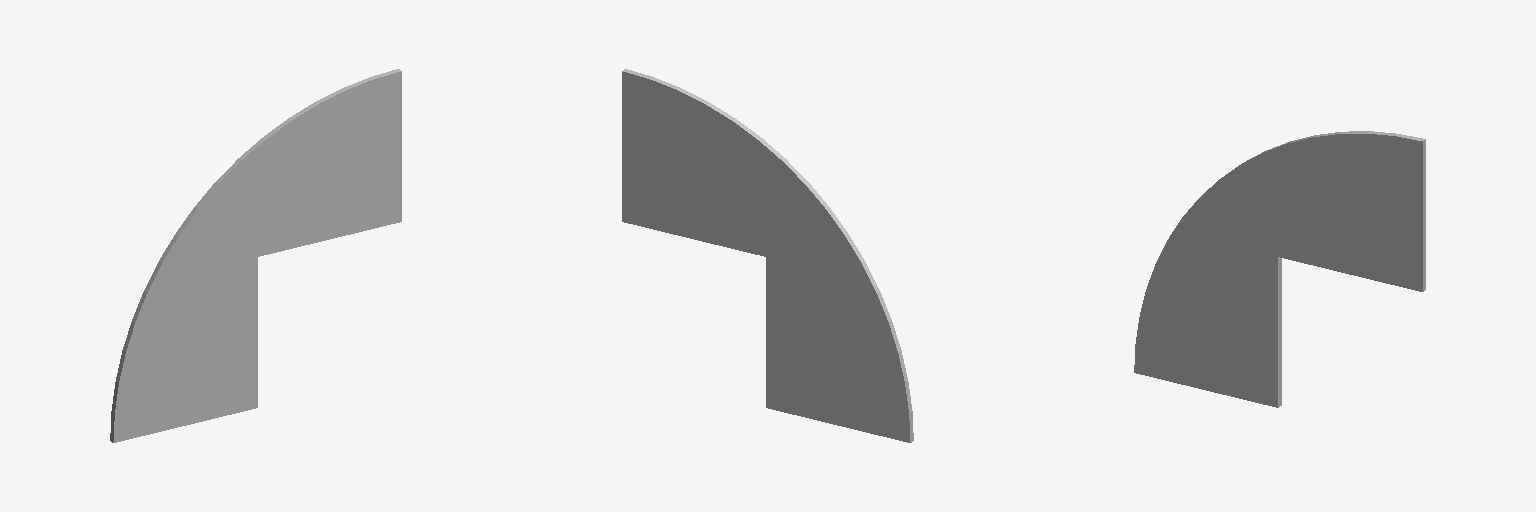
The model's file is plane_translation.obj.
3 views of the same model, side by side, from view 1: azimuth 30°, elevation 25°; view 2: azimuth 150°, elevation 25°; view 3: azimuth 330°, elevation 25° (orthographic).
Visible parts, largest first — view 1: obj_0; view 2: obj_0; view 3: obj_0.
Part boxes in pixels (x1,y1,x2,y2): obj_0: (110,69,401,442); obj_0: (622,69,913,442); obj_0: (1134,131,1425,407).
Size of the model in its own units: 10 by 10 by 0.2.